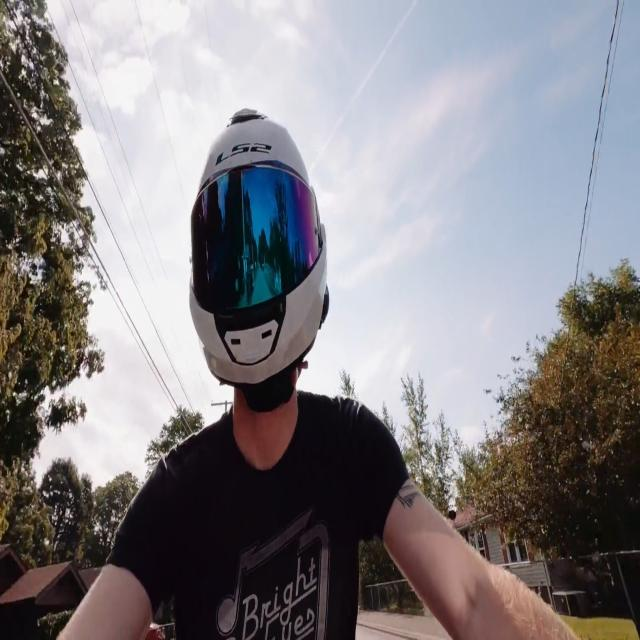Helmet_Wearer: (175, 102, 332, 424)
Person: (53, 95, 518, 640)
